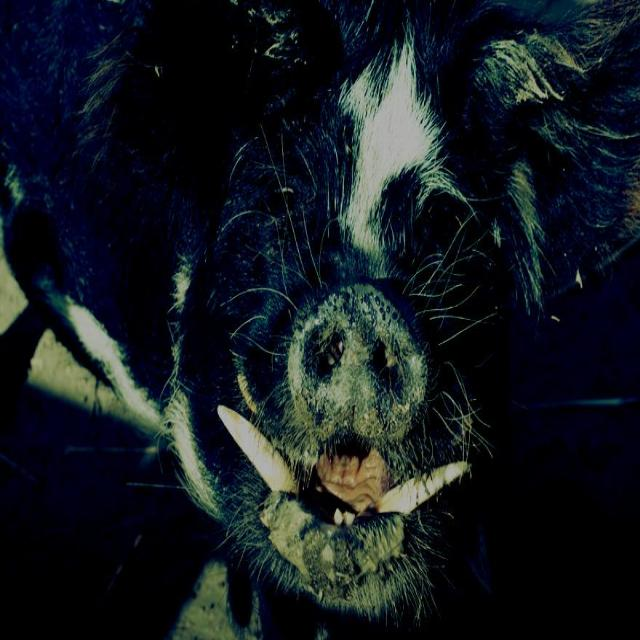pig: (0, 2, 640, 623)
